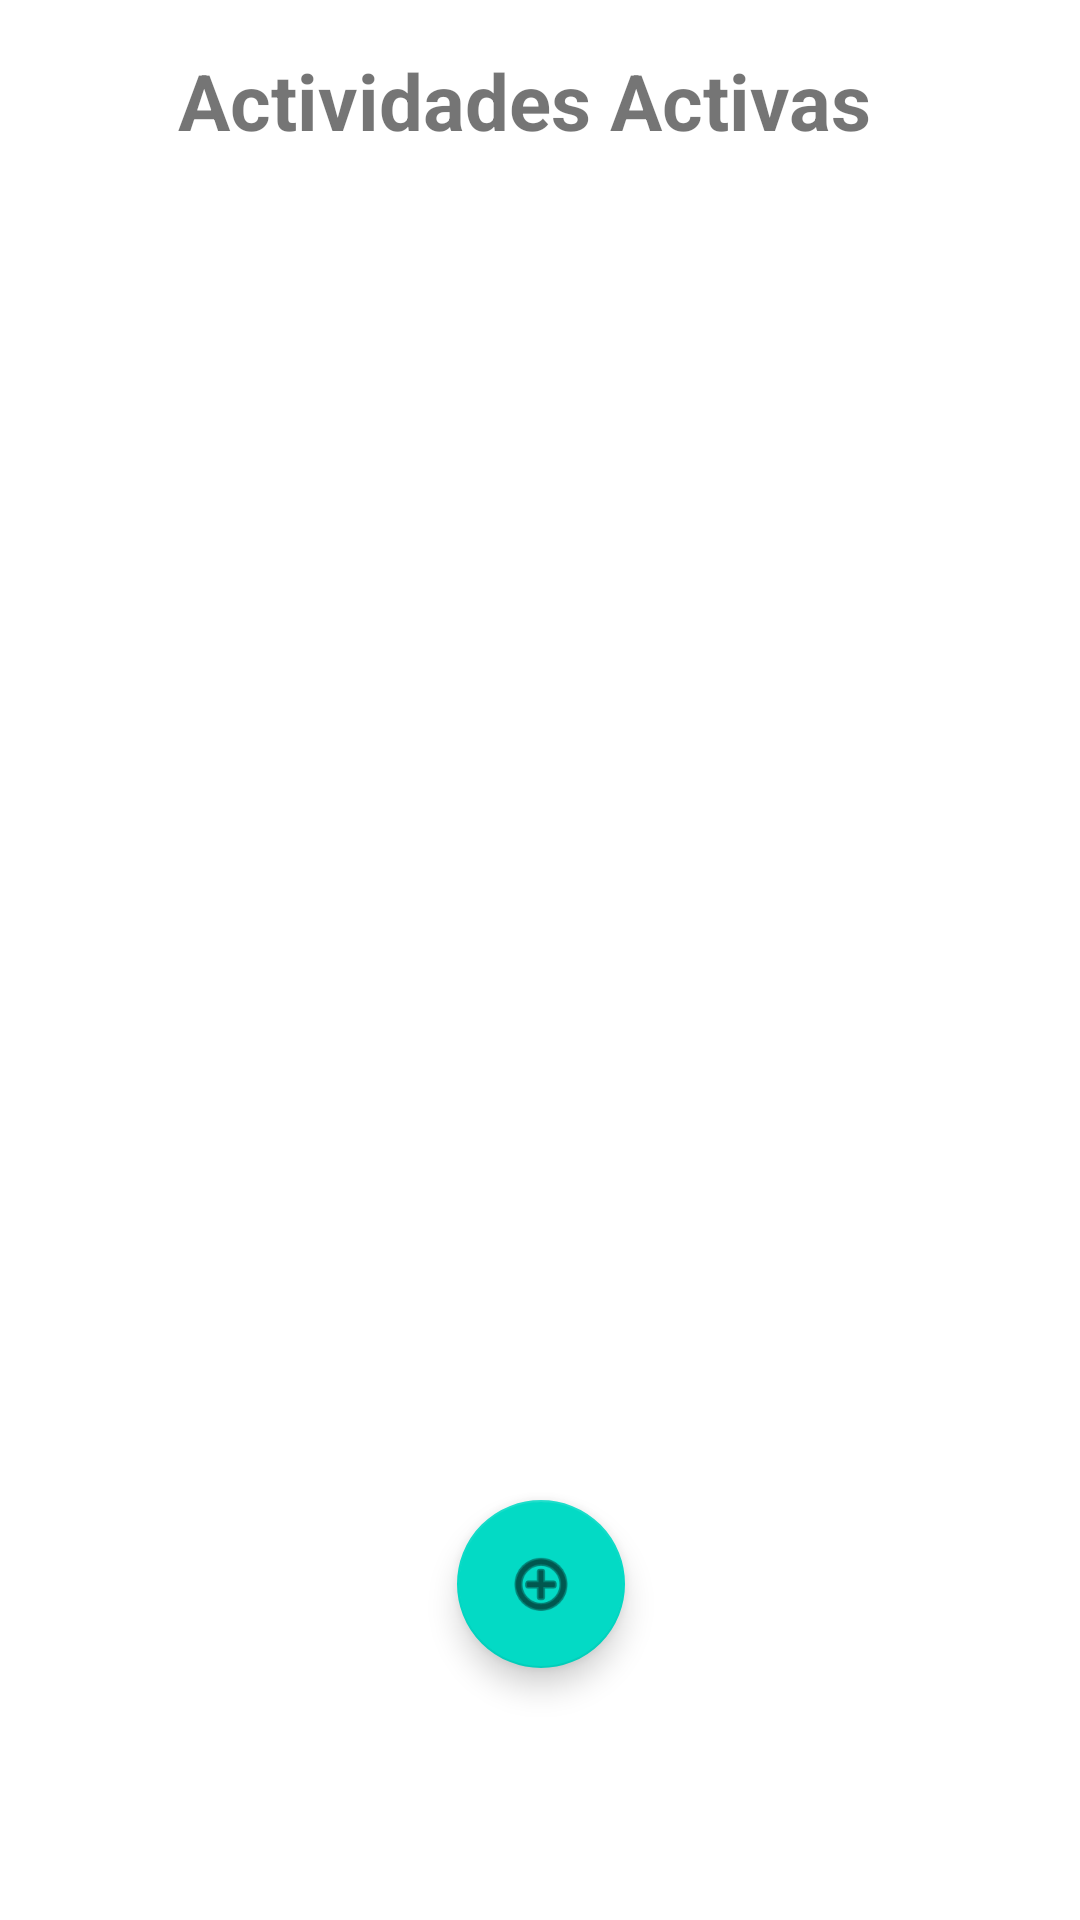

Point at icon controls on the screen. Image size 1080 × 1920, points as (x=x, y=y).
add: (x=541, y=1584)
